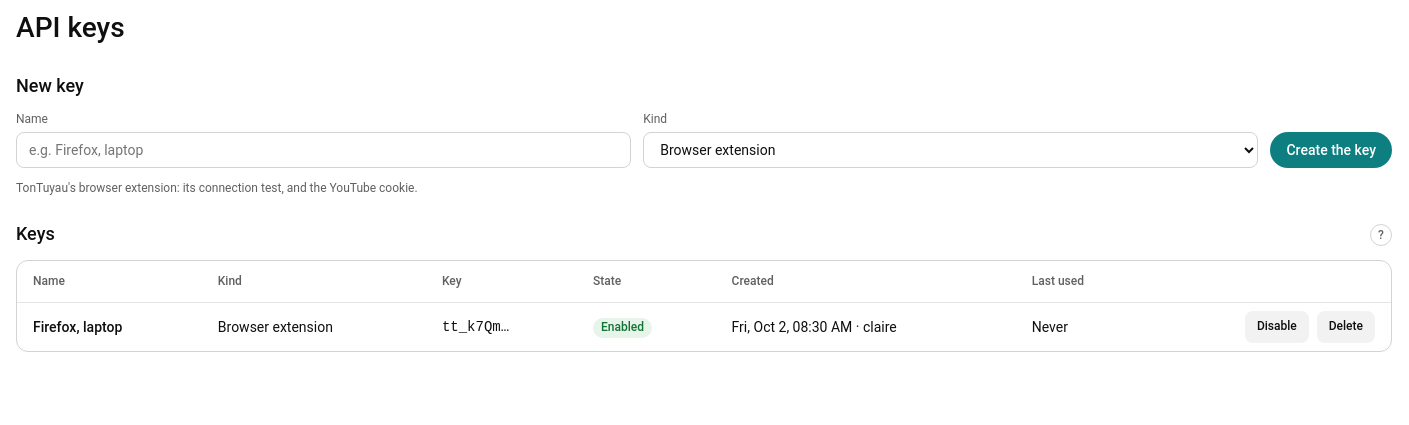
Test: ApiKeysPage › says why an action was refused
This screenshot has width=1409, height=425.
Step 1. Click the button with aria-label "Disable “Firefox, laptop”" → click(1277, 327), box 1245,311 -> 1309,343
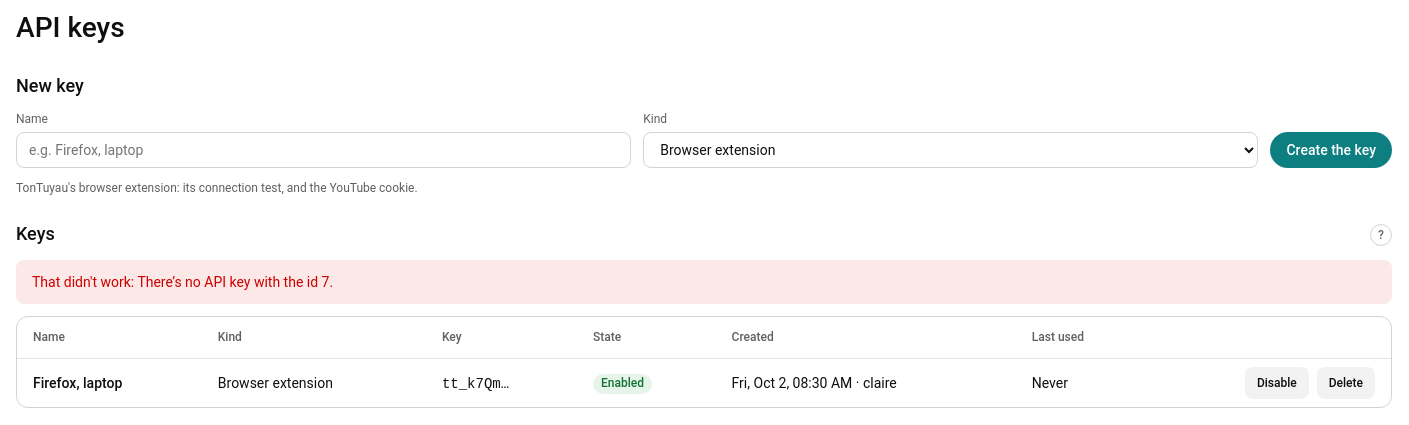
Now the message shows "There’s no API key with the id 7.", box 32,274 -> 333,290
